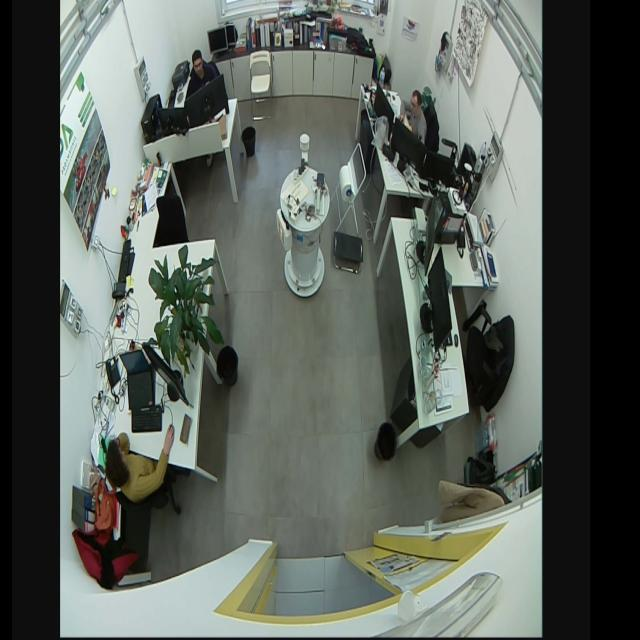Persona: (104, 415, 178, 506), (396, 84, 430, 146), (186, 45, 221, 101)
